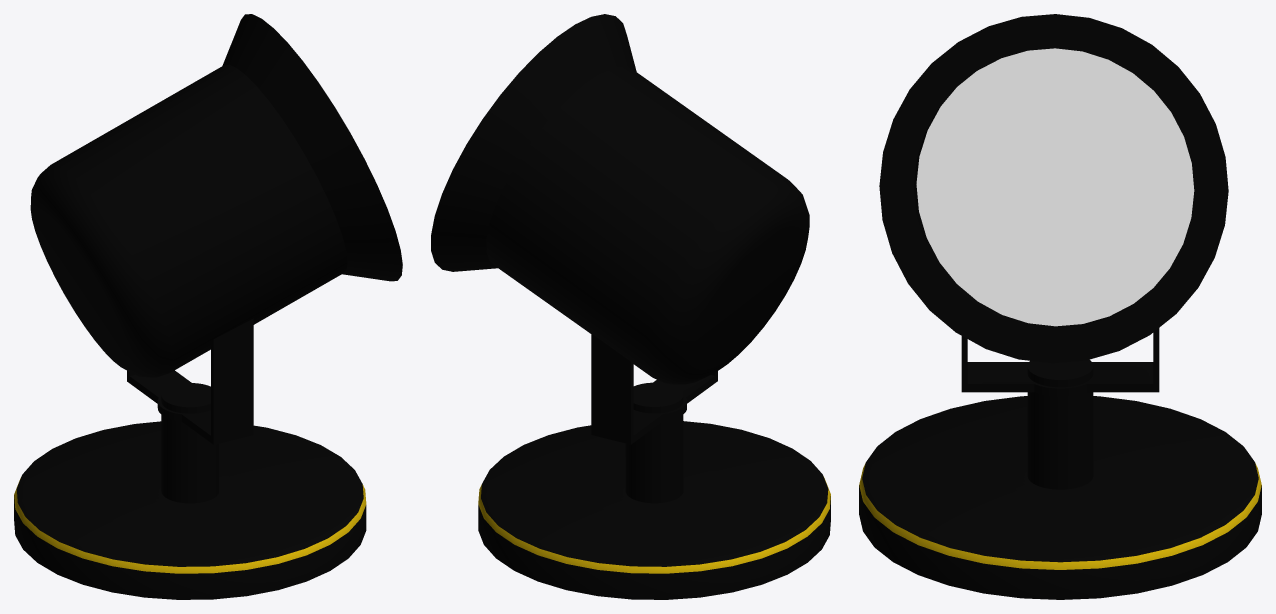
The model's file is Directional Light.fbx.
The picture shows the model from 3 angles, left to right: view 1: azimuth 30°, elevation 25°; view 2: azimuth 150°, elevation 25°; view 3: azimuth 270°, elevation 25°; orthographic projection. The views are drawn at different scales.
Visible parts, largest first — view 1: Cylinder.001, Cylinder; view 2: Cylinder.001, Cylinder; view 3: Cylinder.001, Cylinder.
Part boxes in pixels (x1=…): Cylinder.001: x1=30, y1=14, x2=402, y2=377; Cylinder: x1=14, y1=318, x2=366, y2=599; Cylinder.001: x1=431, y1=14, x2=809, y2=384; Cylinder: x1=478, y1=333, x2=830, y2=599; Cylinder.001: x1=879, y1=14, x2=1228, y2=363; Cylinder: x1=859, y1=328, x2=1261, y2=599.
Size of the model in its own units: 215 by 299 by 200.
